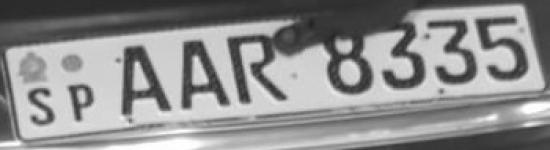3: (375, 18, 428, 93), (426, 15, 479, 89)
5: (477, 11, 532, 85)
8: (319, 24, 375, 97)
A: (113, 41, 174, 116), (175, 35, 232, 112)
P: (64, 78, 100, 122)
R: (224, 29, 290, 105)
S: (21, 87, 65, 128)
